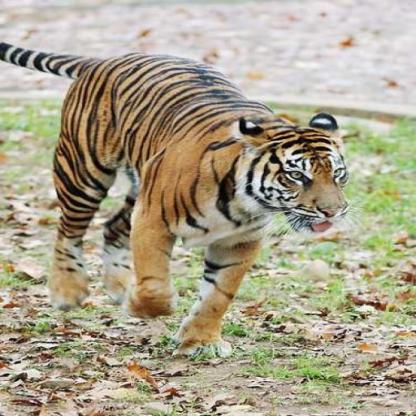Tiger: (0, 12, 359, 393)
